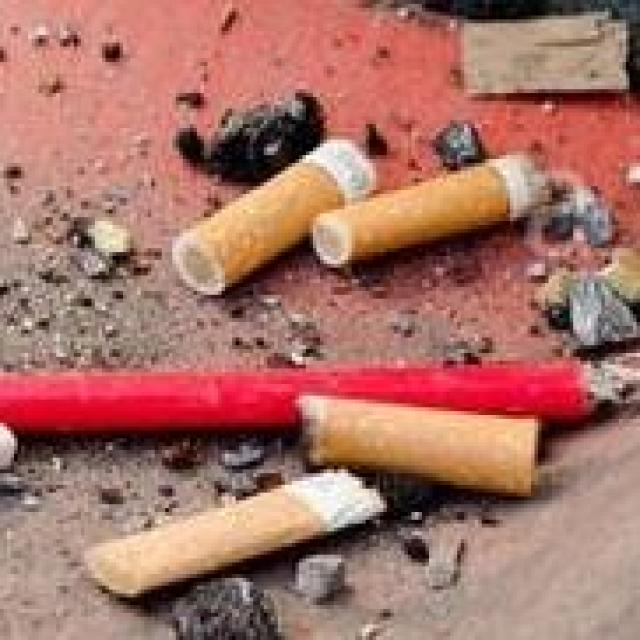-Other waste - cigarette butt-: (85, 469, 385, 595), (172, 132, 377, 298), (316, 152, 545, 268), (298, 392, 538, 498)
